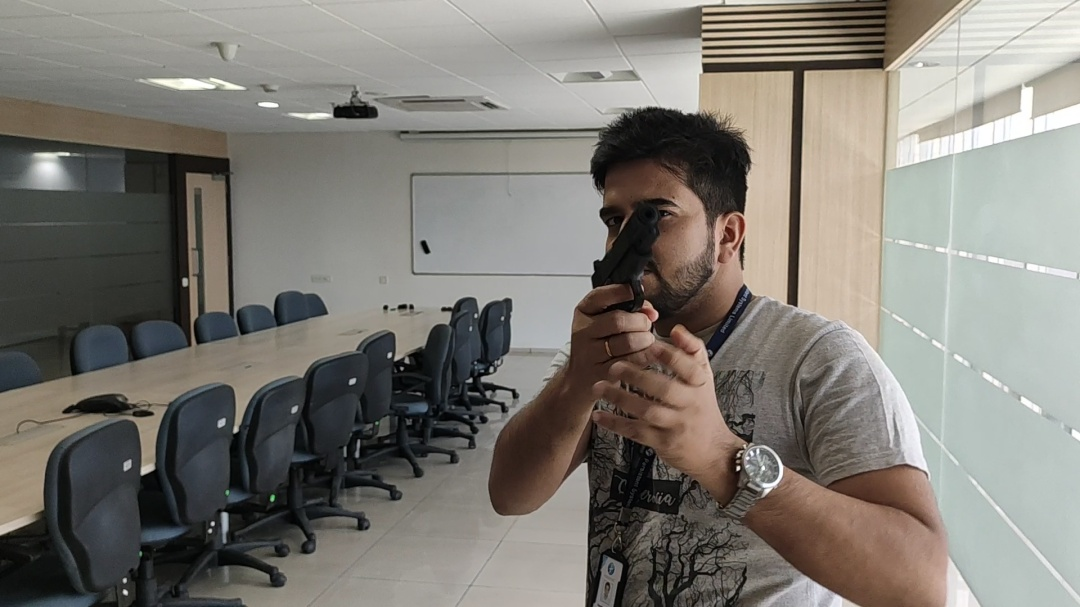gun: (591, 204, 662, 309)
